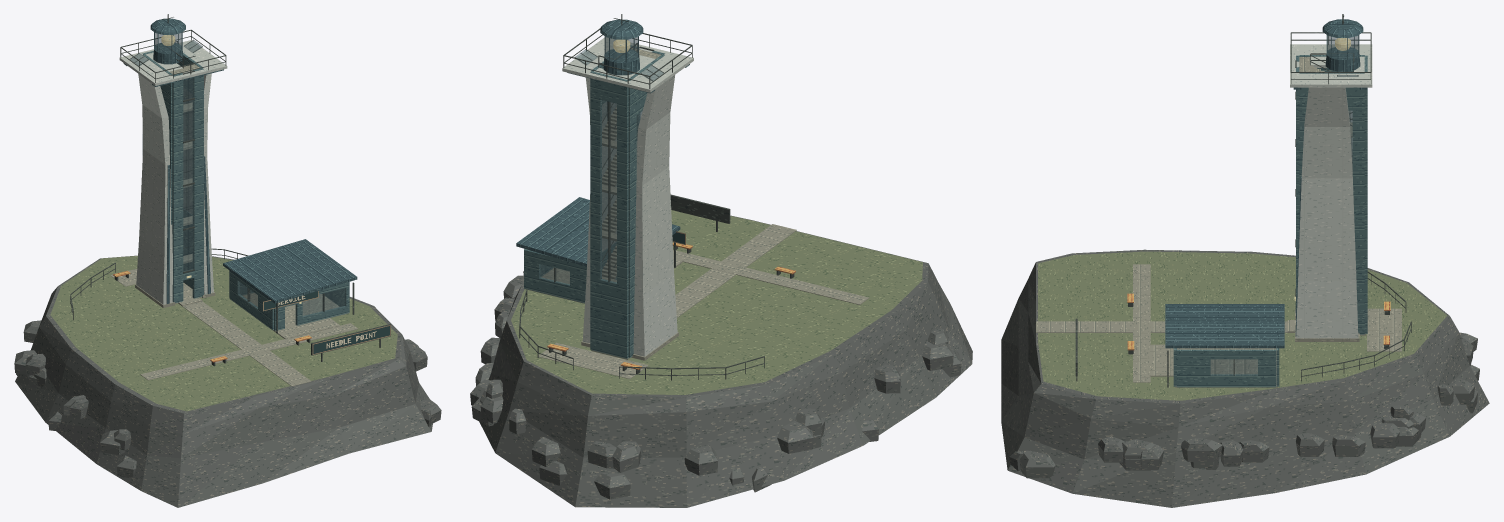
Rendered from needle-point-modern.glb.
3 renders of one model, left to right at view 1: azimuth 30°, elevation 25°; view 2: azimuth 150°, elevation 25°; view 3: azimuth 270°, elevation 25°, orthographic. The views are drawn at different scales.
Parts seen in each view (by area): view 1: optional_headland, light_tower, service_annex, lantern_room, Path from town, Annex crosswalk, lot, sign_name, Modern annexe approach, maintenance_stairs; view 2: optional_headland, light_tower, service_annex, lantern_room, lot, Path from town, Annex crosswalk, maintenance_stairs; view 3: optional_headland, light_tower, service_annex, lantern_room, lot, Annex crosswalk, Path from town, Modern annexe approach.
Part boxes in pixels (bbox=[...]): optional_headland: bbox=[14, 255, 441, 507]; light_tower: bbox=[135, 51, 215, 307]; service_annex: bbox=[223, 239, 357, 333]; lantern_room: bbox=[119, 14, 227, 86]; Path from town: bbox=[182, 301, 311, 386]; Annex crosswalk: bbox=[140, 323, 357, 380]; lot: bbox=[70, 248, 390, 365]; sign_name: bbox=[312, 325, 390, 354]; Modern annexe approach: bbox=[274, 318, 340, 339]; maintenance_stairs: bbox=[169, 56, 199, 263]; optional_headland: bbox=[470, 210, 972, 507]; light_tower: bbox=[581, 45, 678, 360]; service_annex: bbox=[516, 197, 680, 303]; lantern_room: bbox=[562, 14, 693, 93]; lot: bbox=[519, 194, 795, 380]; Path from town: bbox=[675, 224, 796, 317]; Annex crosswalk: bbox=[673, 250, 868, 304]; maintenance_stairs: bbox=[602, 45, 660, 282]; optional_headland: bbox=[1001, 249, 1489, 507]; light_tower: bbox=[1287, 55, 1367, 341]; service_annex: bbox=[1165, 304, 1284, 387]; lantern_room: bbox=[1290, 14, 1372, 89]; lot: bbox=[1075, 271, 1411, 381]; Annex crosswalk: bbox=[1133, 264, 1150, 382]; Path from town: bbox=[1036, 321, 1294, 332]; Modern annexe approach: bbox=[1149, 344, 1173, 376].
Bounding box in the file's own units: 36.52 × 37.1 × 40.62.
11 materials, 11 textured.
